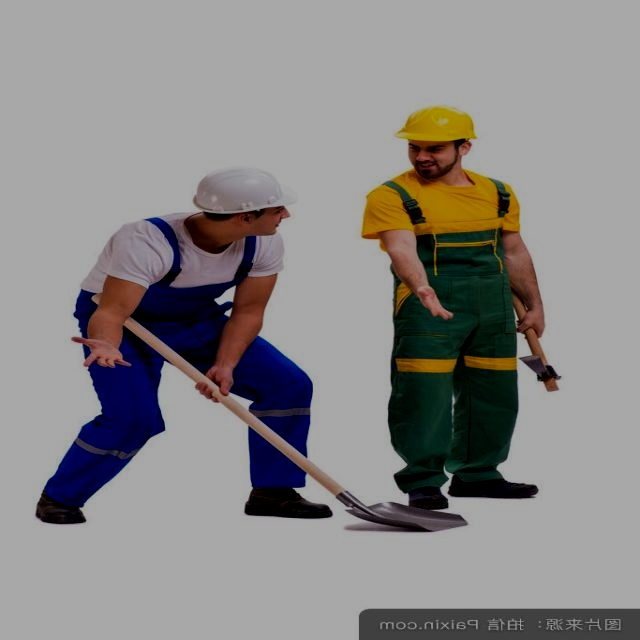Con_Casco: (192, 169, 290, 236), (394, 105, 478, 175)
Sin_Chaleco: (361, 177, 520, 279)
